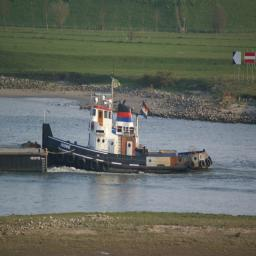tugboat: (42, 90, 217, 183)
